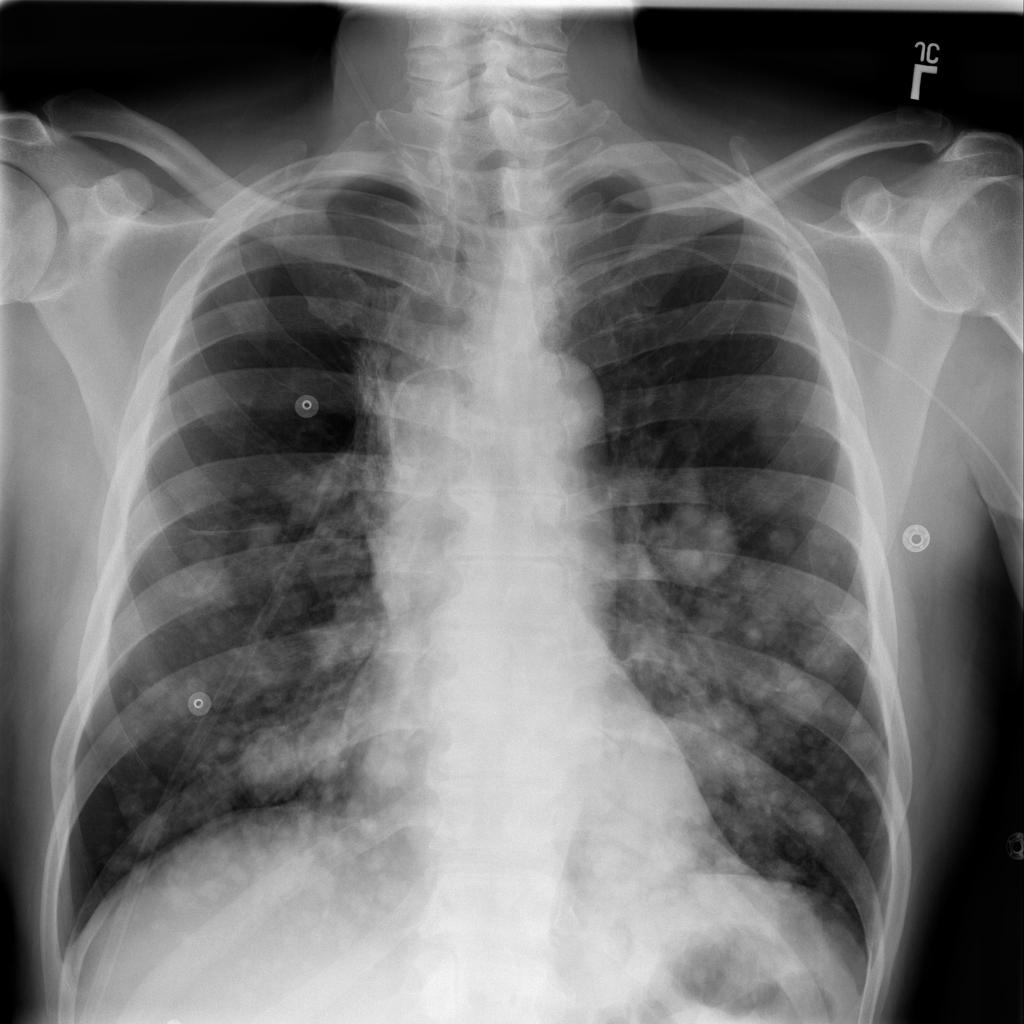nodule: (586, 674, 773, 848), (240, 700, 364, 798), (650, 486, 758, 595), (231, 719, 312, 804), (789, 601, 873, 673), (169, 560, 252, 629), (99, 775, 179, 844), (105, 799, 183, 868), (162, 524, 241, 590), (772, 792, 844, 863), (224, 506, 300, 572), (354, 730, 424, 799), (658, 413, 710, 465), (756, 512, 809, 563)
